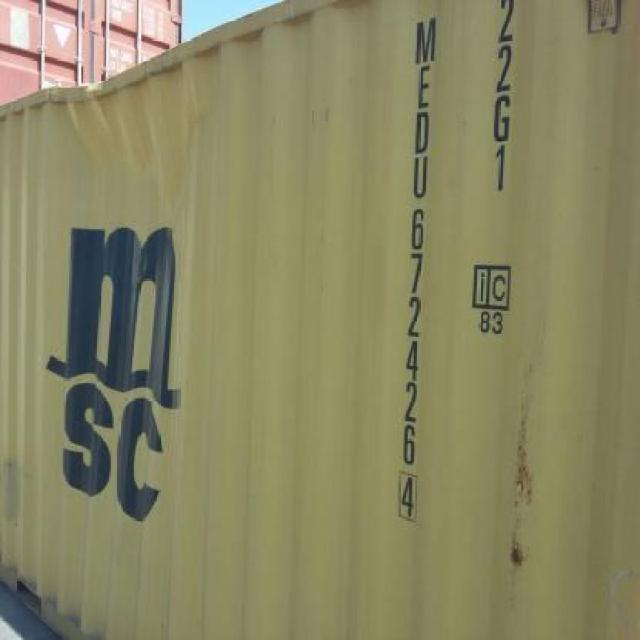dent: (21, 49, 169, 144)
